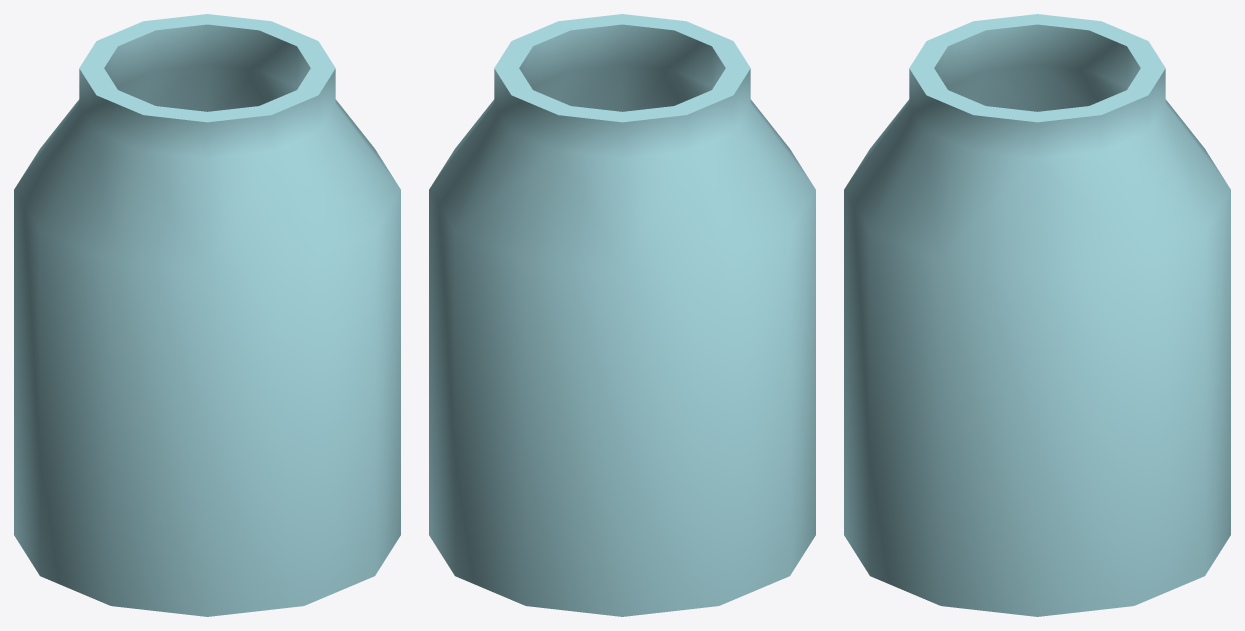
File: JarEmpty3.fbx
3 views of the same model, side by side, from view 1: azimuth 30°, elevation 25°; view 2: azimuth 150°, elevation 25°; view 3: azimuth 270°, elevation 25° (orthographic).
Parts seen in each view (by area): view 1: JarEmpty3; view 2: JarEmpty3; view 3: JarEmpty3.
Boxes of the visible parts, x1,y1,x2,y2 form: JarEmpty3: (14,14,400,616); JarEmpty3: (429,14,815,616); JarEmpty3: (844,14,1230,616).
Size of the model in its own units: 8.28 by 11.03 by 8.28.
